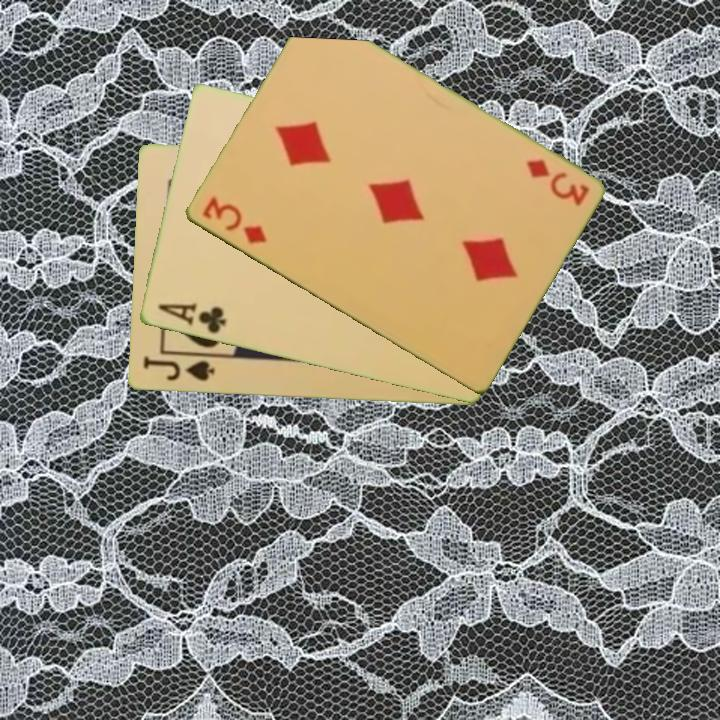3d: (198, 192, 269, 247), (521, 155, 592, 210)
Ac: (154, 299, 229, 337)
Js: (139, 353, 217, 384)
